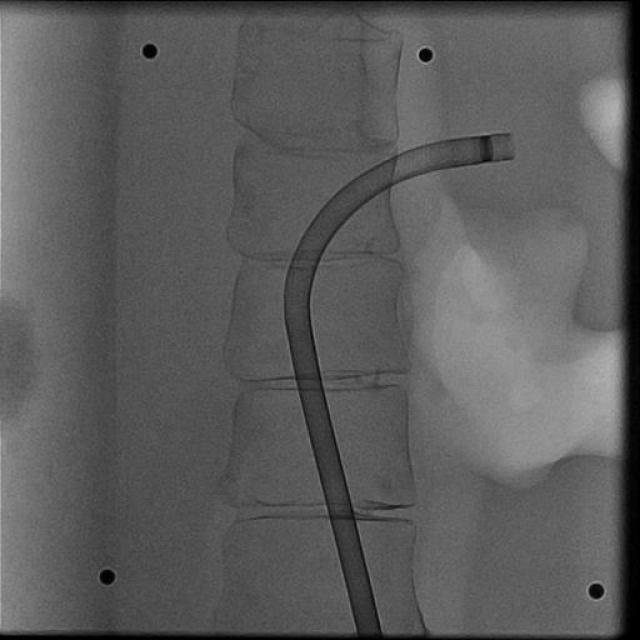bend: (282, 291, 310, 312)
entry: (354, 628, 382, 634)
marker: (478, 134, 494, 164)
tip: (504, 133, 516, 159)
